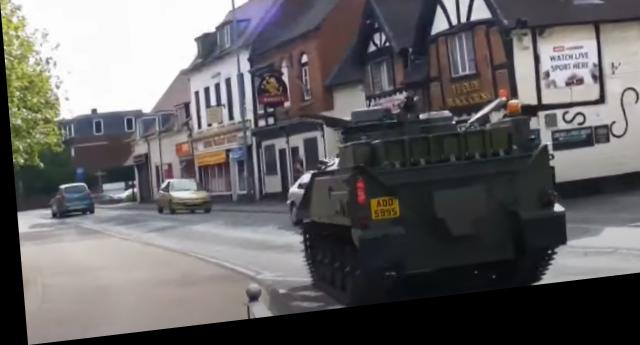tank: (298, 119, 551, 310)
